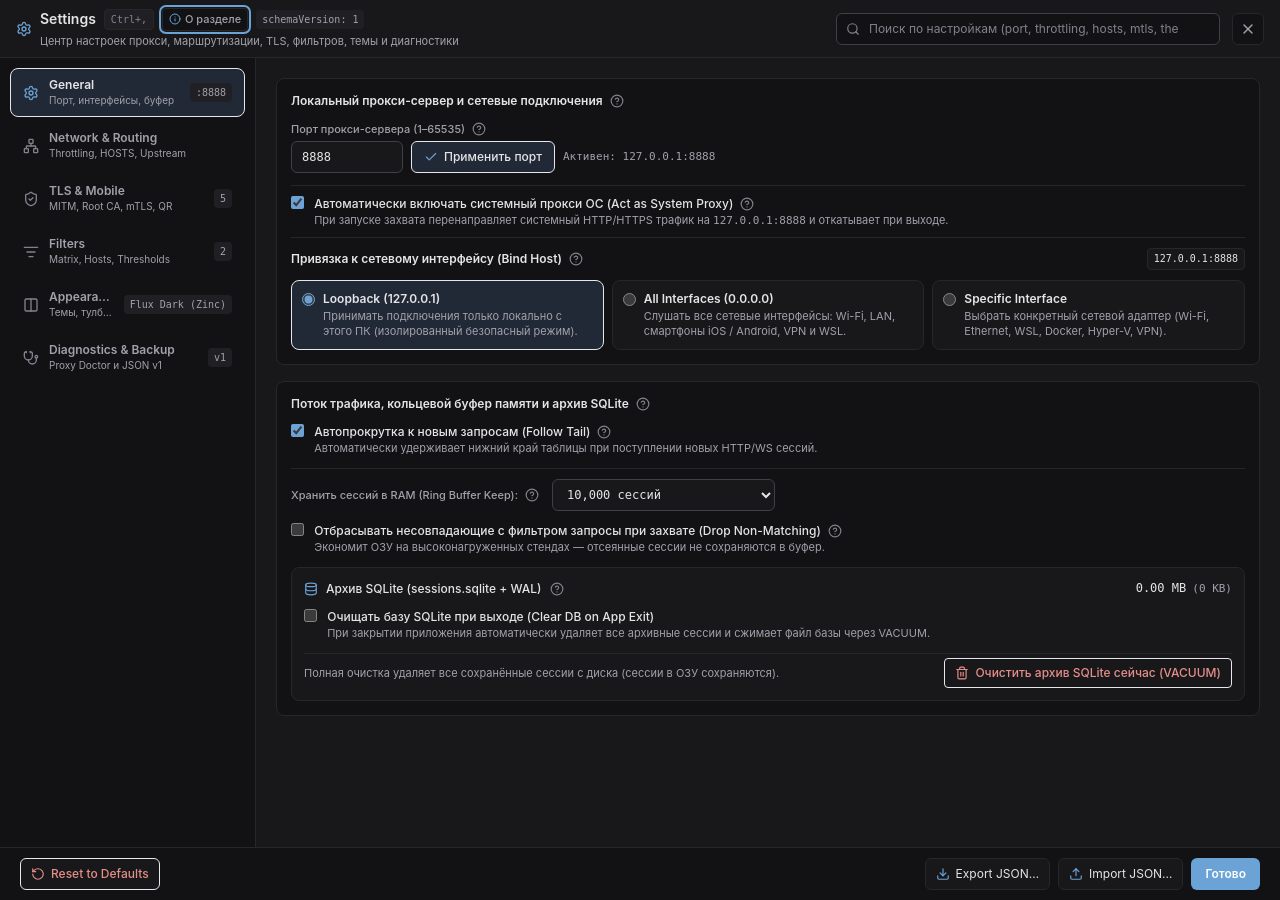
Test: SettingsModal (Unified Fullscreen Settings Hub) › stage 49: searches JS/font keywords, renders 4 granular asset toggles + 1-click chips, and counts active threshold badge
The image size is (1280, 900).
Later steps or results of the test are not shown.
Expected: the tab "Filters Matrix, Hosts, Thresholds 2" is shown, 10,227 -> 245,276
Replace the text in the search field labelled "Поиск по настройкам" with "javascript" at (1028, 28), box 836,12 -> 1220,44
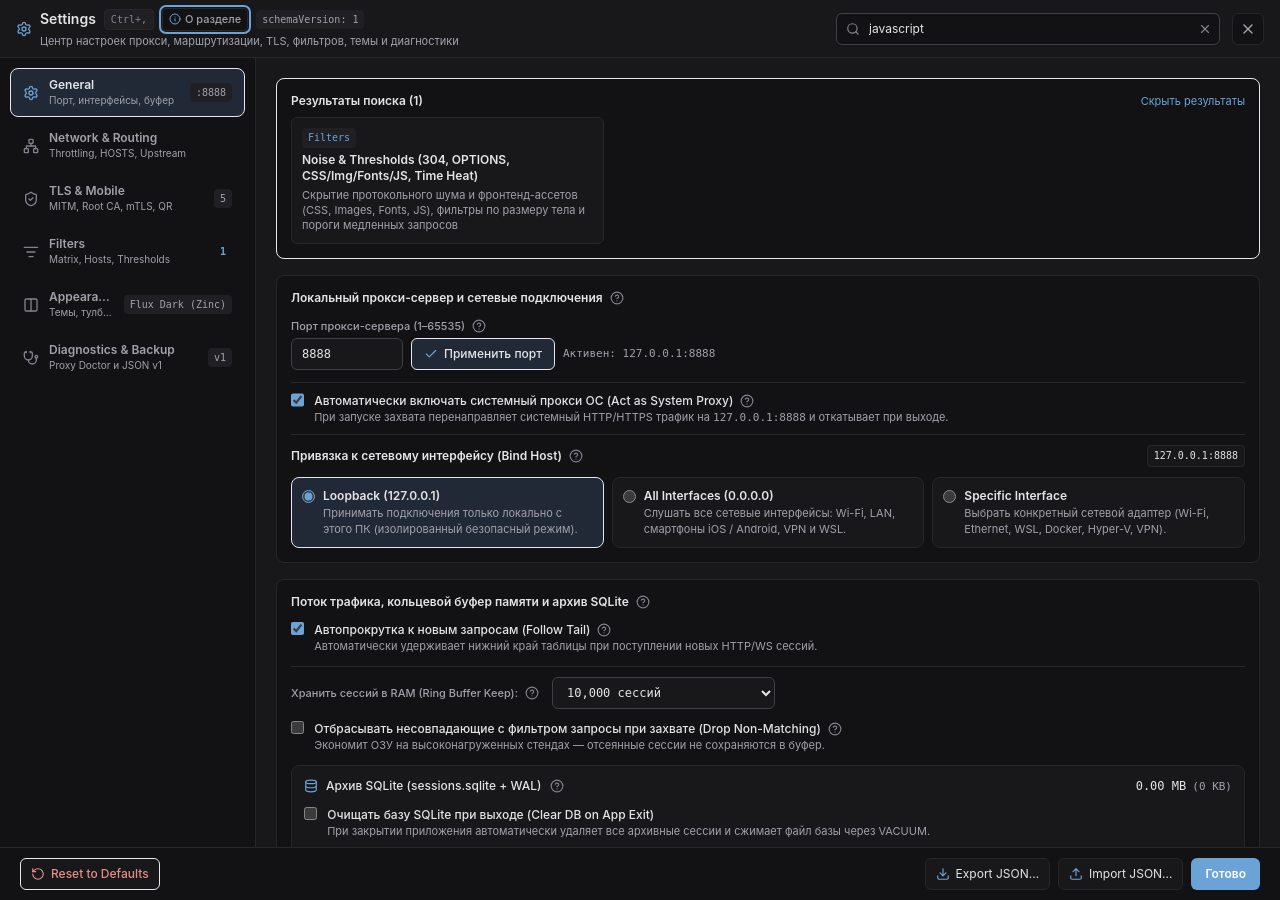
Now the button "Noise & Thresholds" is shown, box 291,117 -> 604,244
Replace the text in the search field named "Поиск по настройкам" with "шрифты" at (1028, 28), box 836,12 -> 1220,44
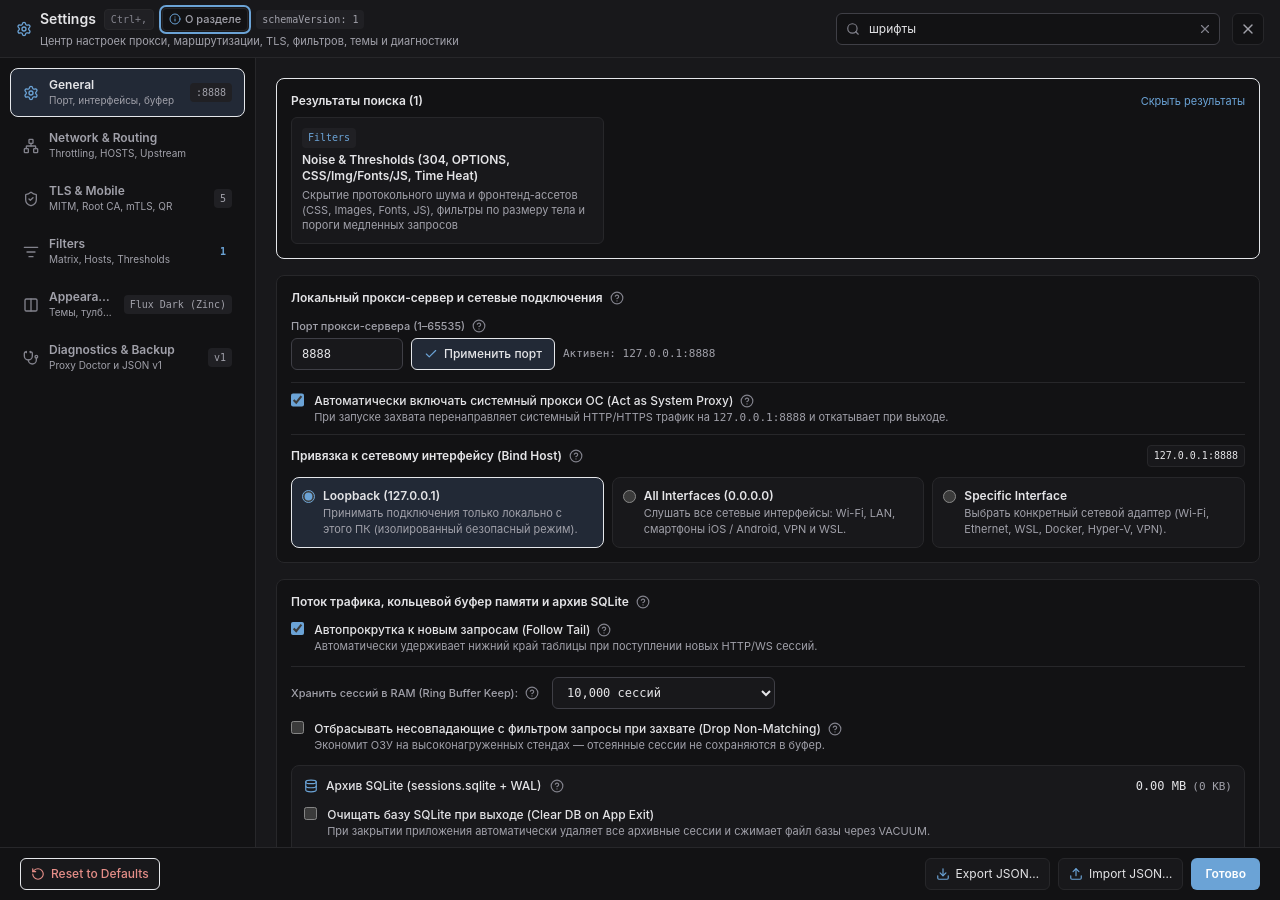
Click the button "Noise & Thresholds" at (447, 181), box 291,117 -> 604,244
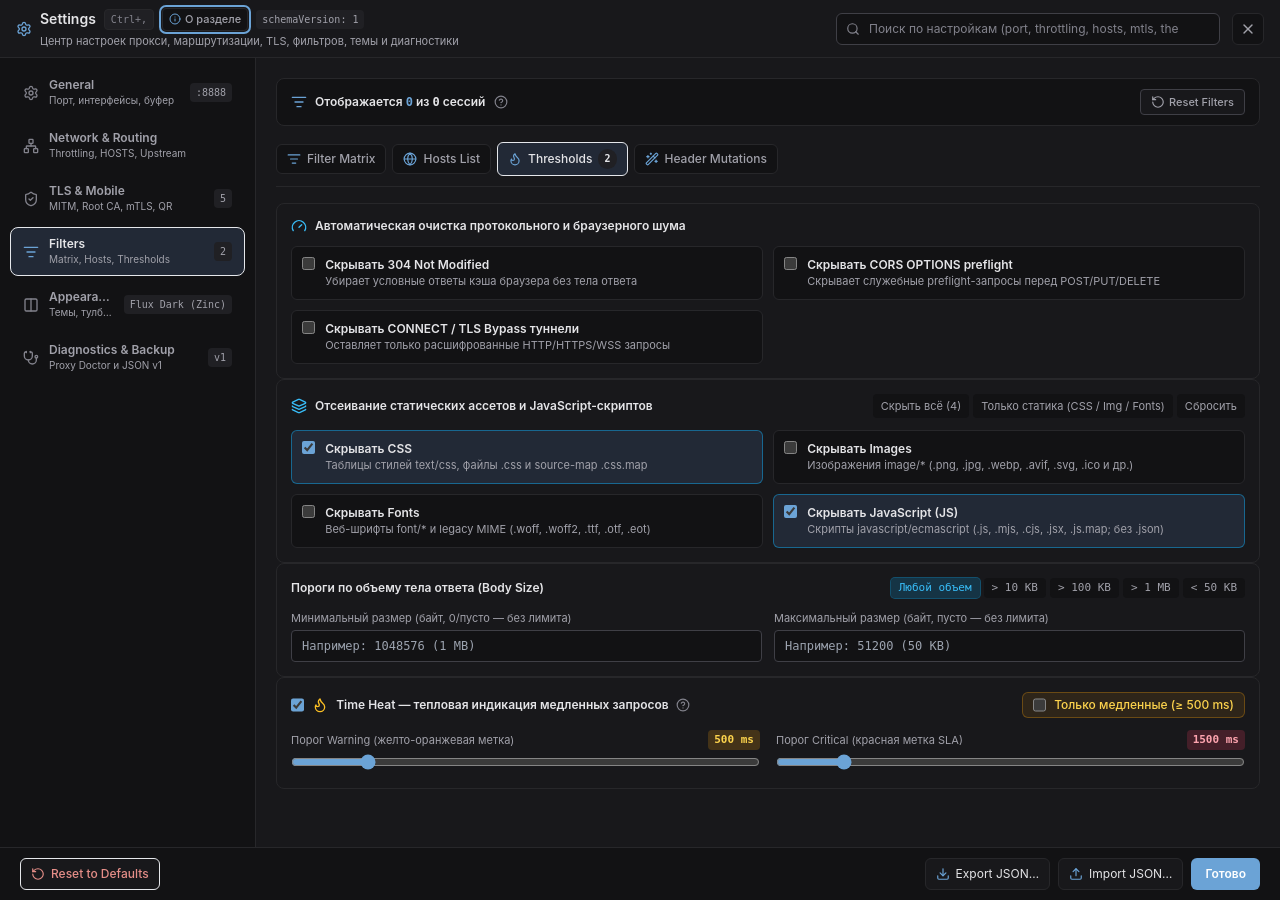
Expected: the checkbox labelled "Скрывать CSS" is shown, 302,441 -> 315,454
Now the text "Скрывать JavaScript (JS)" is shown, box 807,505 -> 958,520
